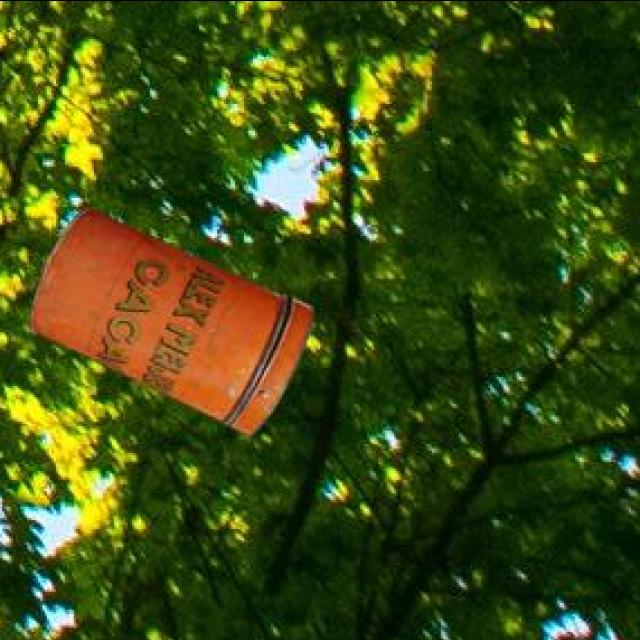logam: (26, 209, 310, 437)
